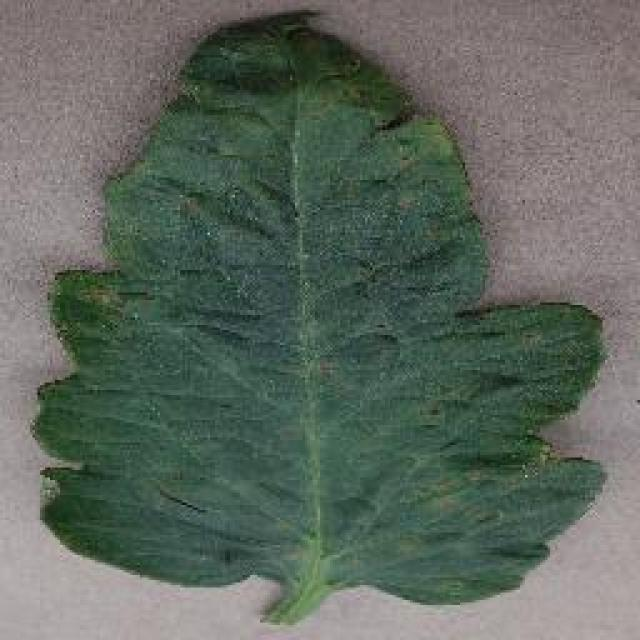Tomato bacterial spot leaf: (60, 16, 588, 622)
